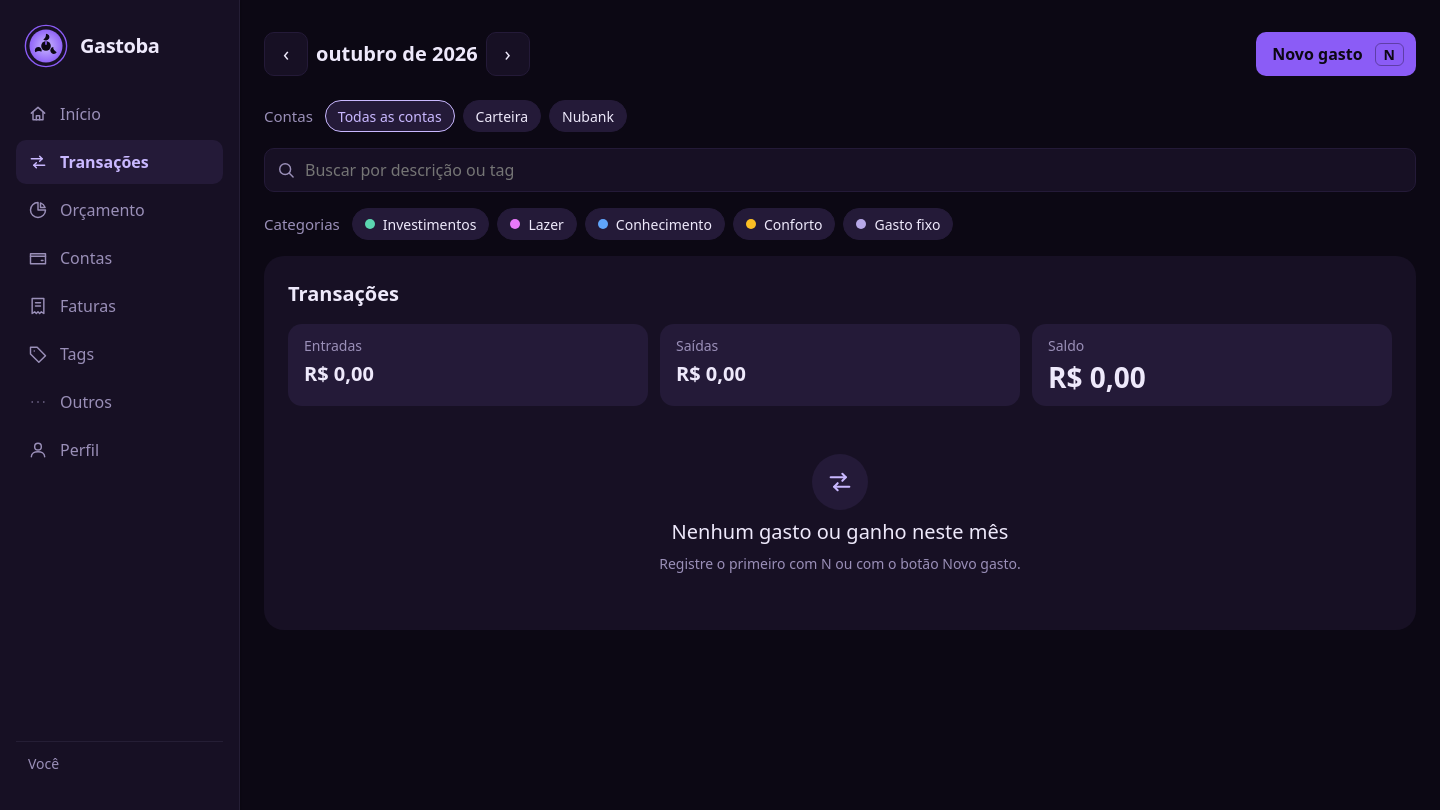
Test case: Transações: compositor de gasto › começa com a conta escolhida no filtro
Click the button "Nubank" at (588, 116), box [549,100,627,132]
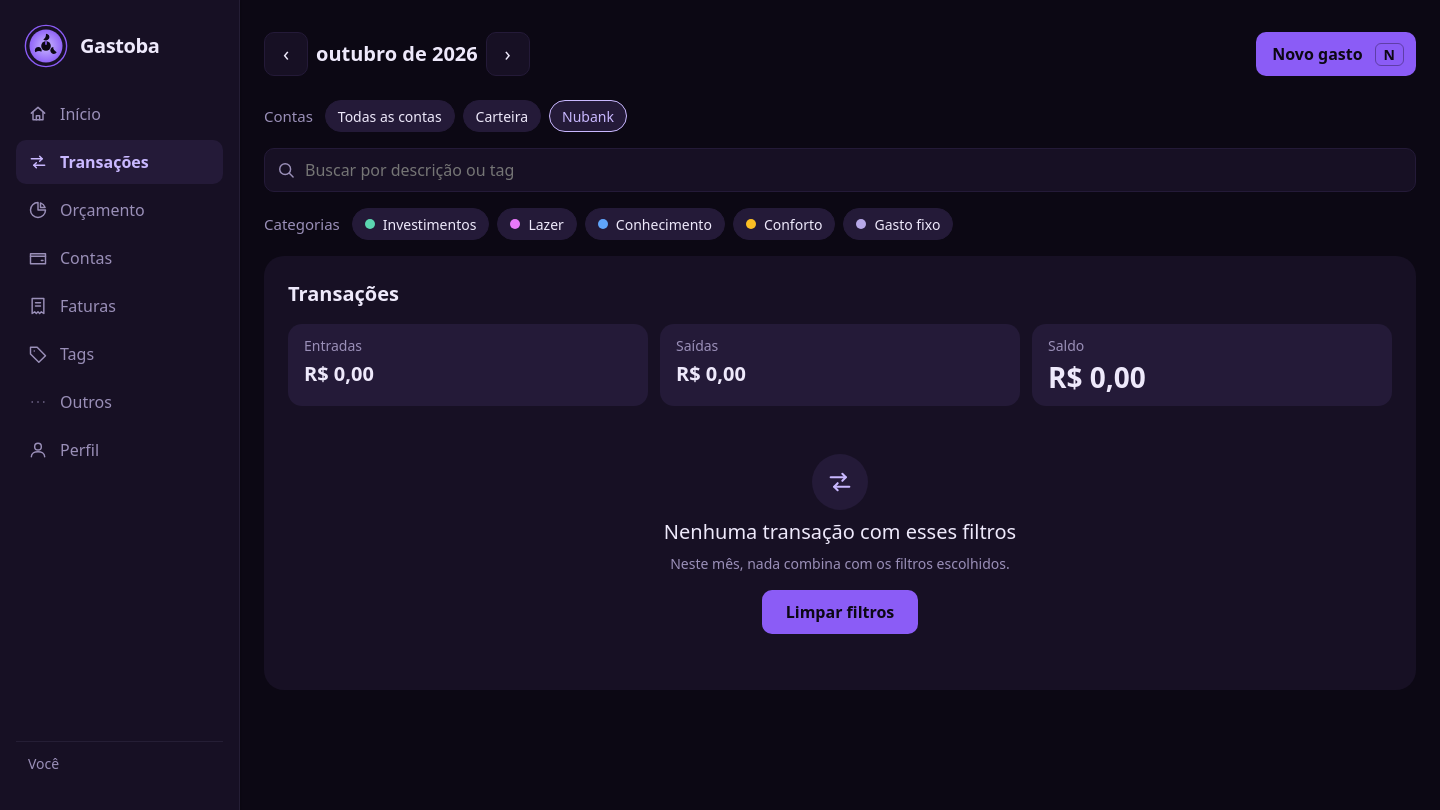
Click the button "Novo gasto N" at (1336, 54), box [1256,32,1416,76]
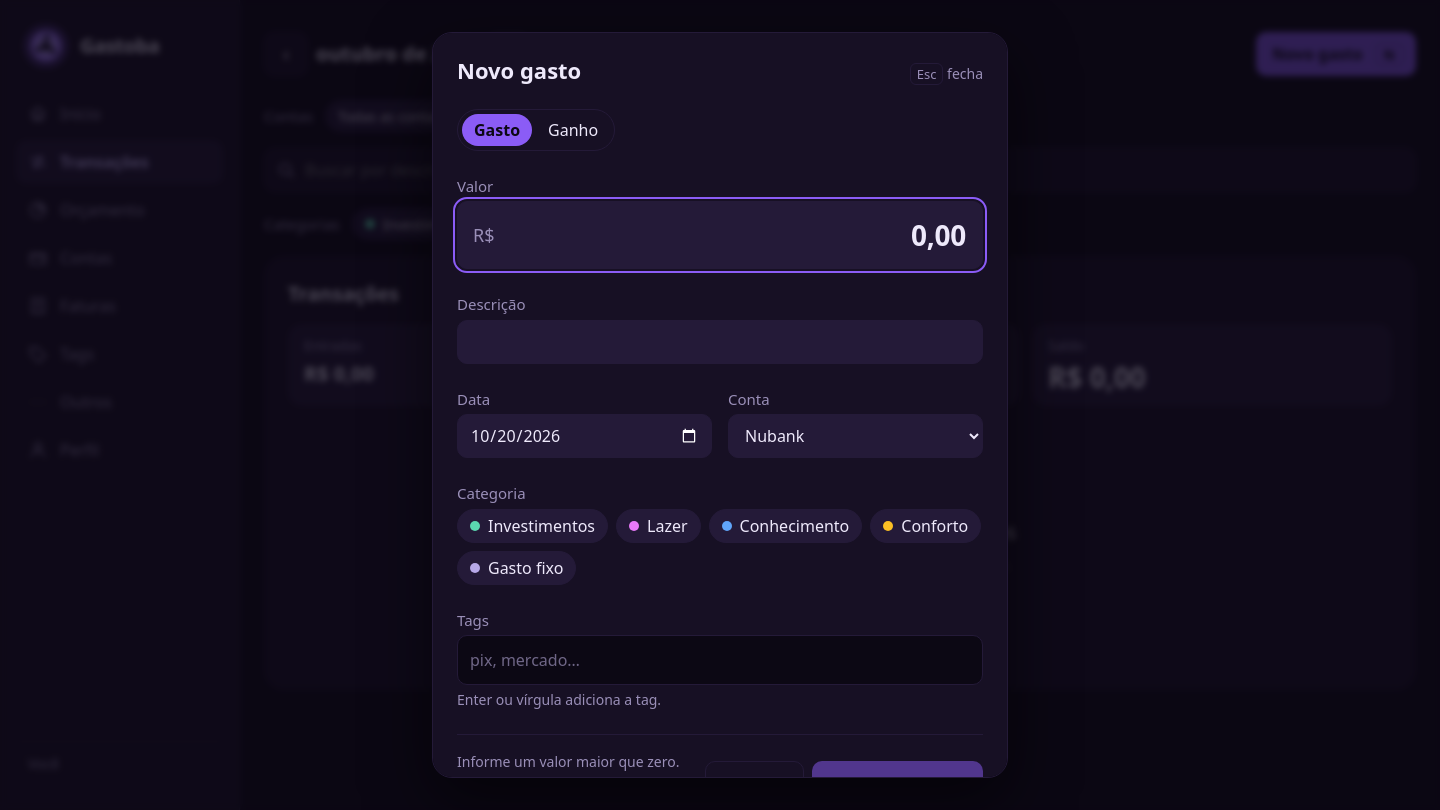
expect the dialog "Novo gasto" is shown: met, box [432,32,1008,778]
